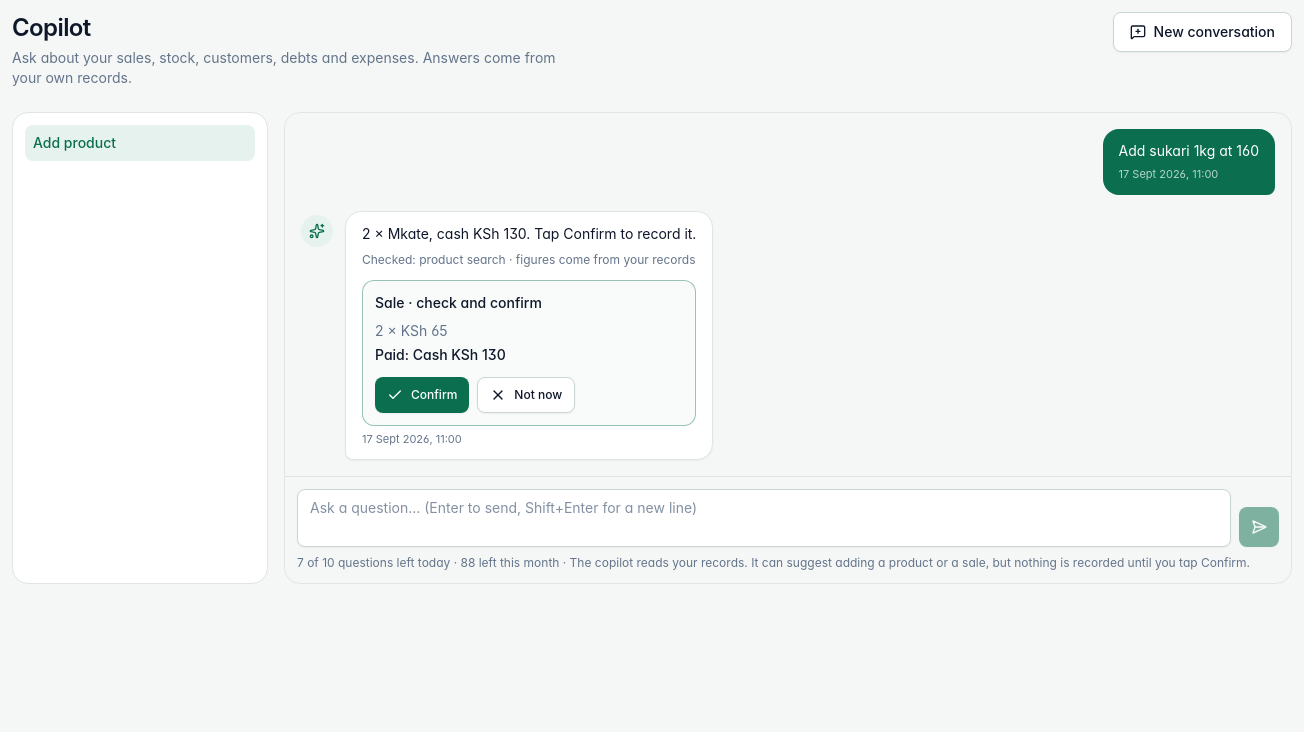
Scenario: ProposalCard › rejects with Not now and shows a sale proposal read-only with its lines and payments
Expected: the list item "2 × KSh 65" is shown, [375, 322, 448, 339]
Expected: the list item "Paid: Cash KSh 130" is shown, [375, 346, 506, 363]
Click the button "Not now": (526, 395) [477, 377, 575, 413]
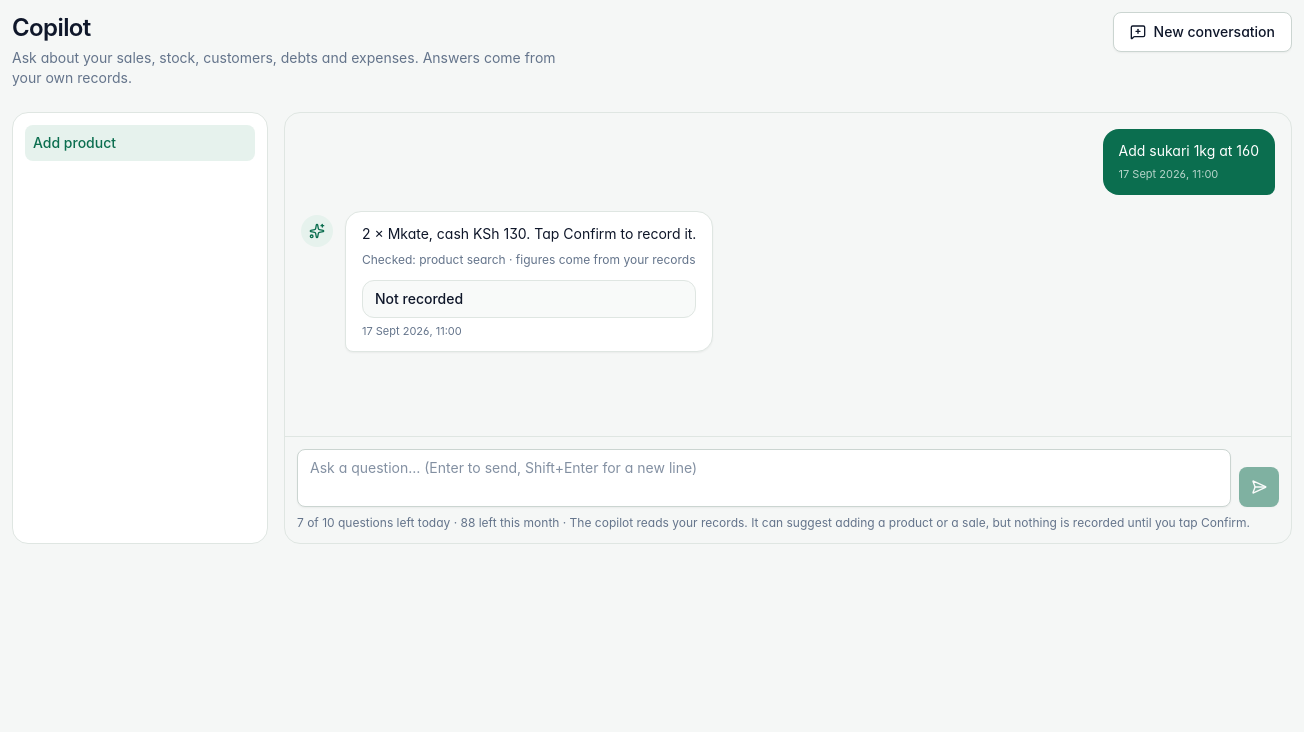
Expected: the text "Not recorded" is shown, [375, 290, 463, 307]
